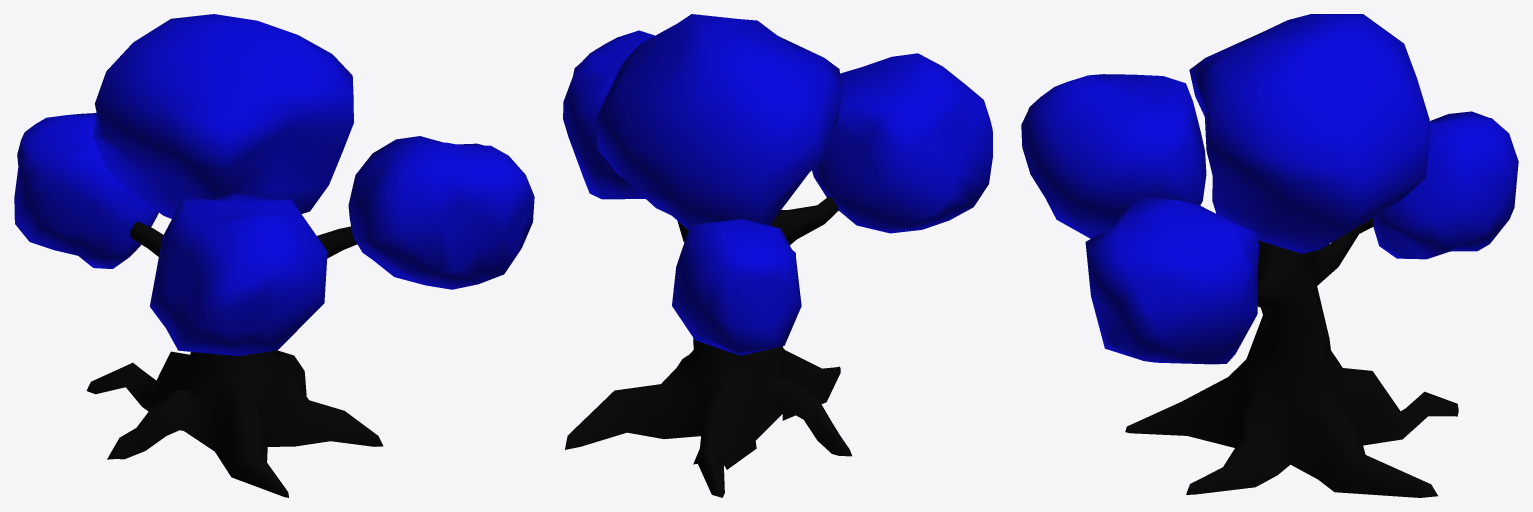
File: Tree.fbx
3 views of the same model, side by side, from view 1: azimuth 30°, elevation 25°; view 2: azimuth 150°, elevation 25°; view 3: azimuth 270°, elevation 25° (orthographic). The views are drawn at different scales.
Parts seen in each view (by area): view 1: pSphere6; view 2: pSphere6; view 3: pSphere6.
Boxes of the visible parts, x1,y1,x2,y2 form: pSphere6: [14, 14, 534, 497]; pSphere6: [563, 14, 992, 497]; pSphere6: [1021, 14, 1518, 497].
Bounding box in the file's own units: 400 × 402 × 433.
